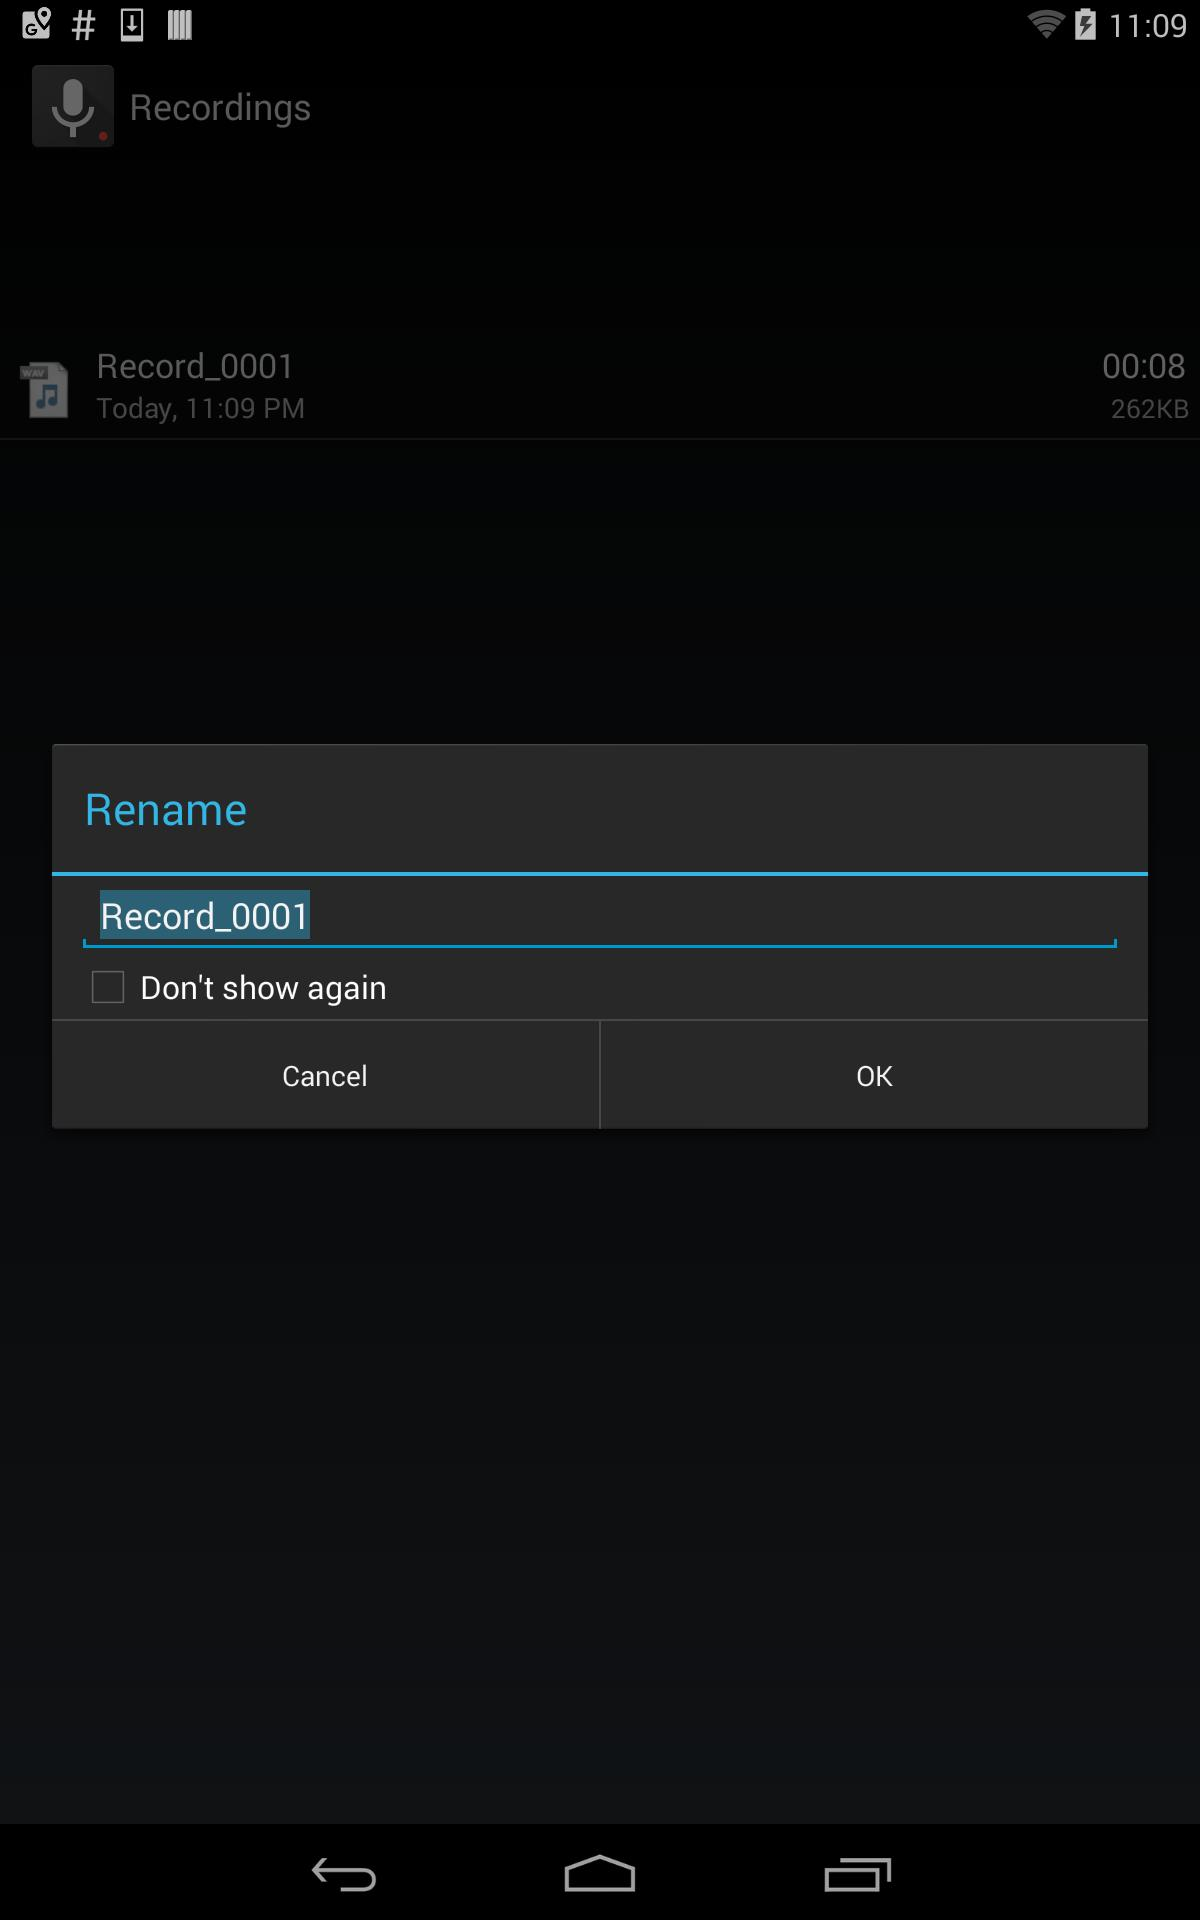android.view.View: (53, 872, 1147, 876)
android.widget.Button: (53, 1022, 599, 1129), (601, 1022, 1147, 1129)
android.widget.CheckBox: (76, 955, 1124, 1019)
android.widget.EditText: (76, 876, 1124, 955)
android.widget.FrameLayout: (19, 728, 1181, 1145), (36, 876, 1164, 1019), (53, 876, 1147, 1019)
android.widget.LinearLayout: (36, 728, 1164, 1145), (36, 728, 1164, 876), (53, 876, 1147, 1019), (36, 1019, 1164, 1145), (84, 744, 1116, 872), (53, 1022, 1147, 1129)
android.widget.TextView: (84, 778, 1116, 838)
